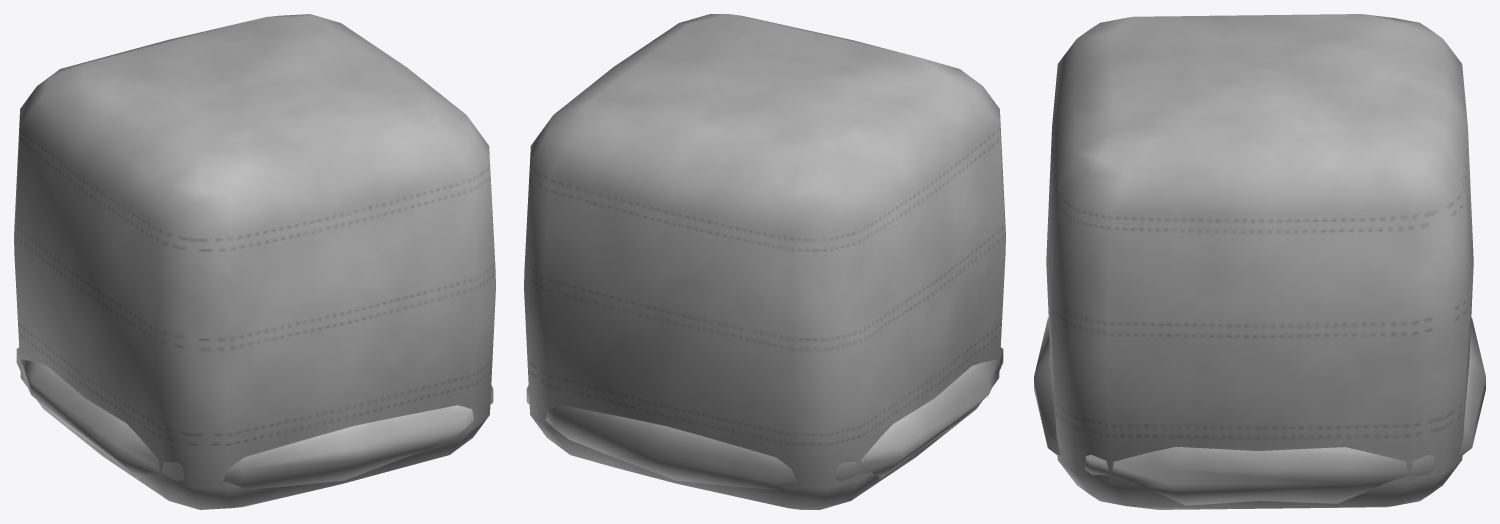
The model's file is LeftLowerArm_C1.fbx.
The picture shows the model from 3 angles, left to right: view 1: azimuth 30°, elevation 25°; view 2: azimuth 150°, elevation 25°; view 3: azimuth 270°, elevation 25°; orthographic projection. The views are drawn at different scales.
Visible parts, largest first — view 1: Civ_CamperaJean_LeftLowerArm_C1; view 2: Civ_CamperaJean_LeftLowerArm_C1; view 3: Civ_CamperaJean_LeftLowerArm_C1.
Boxes of the visible parts, left/top/right/bottom form: Civ_CamperaJean_LeftLowerArm_C1: left=14, top=14, right=495, bottom=509; Civ_CamperaJean_LeftLowerArm_C1: left=524, top=14, right=1005, bottom=509; Civ_CamperaJean_LeftLowerArm_C1: left=1034, top=14, right=1485, bottom=509.
Bounding box in the file's own units: 1.26 × 1.19 × 1.29.
